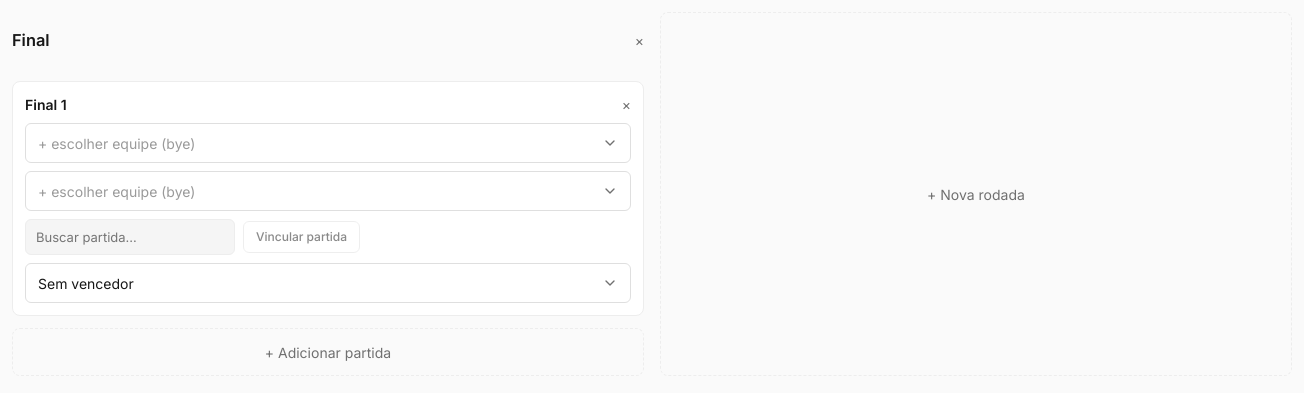
Test: BracketTab › linking and unlinking matches › hides matches already placed in a group stage or bracket, and cancelled ones
Type "Águias" into the dropdown with placeholder "Buscar partida…".
click(130, 237); type("Águias")  # box [25,219,235,255]
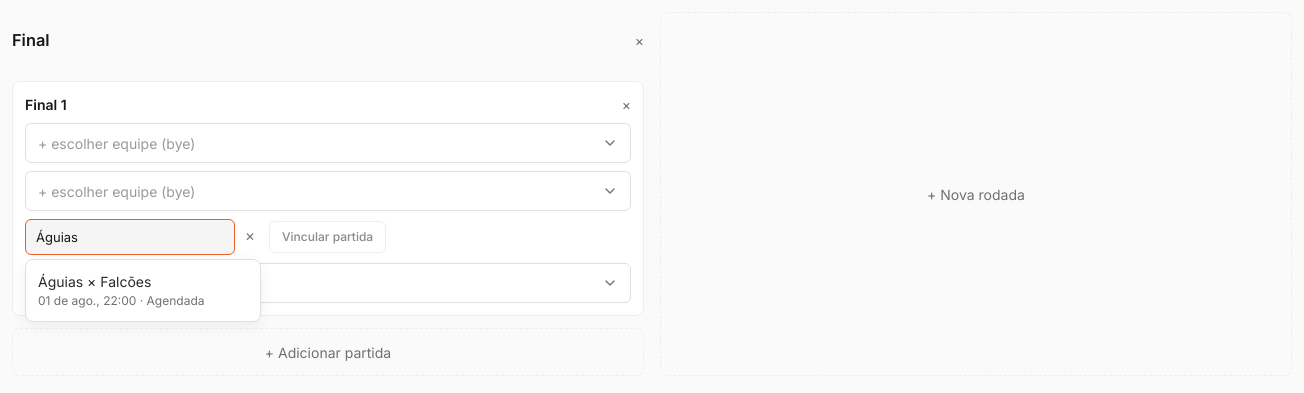
Check: the number of options is 1, box [38,273,204,308]
